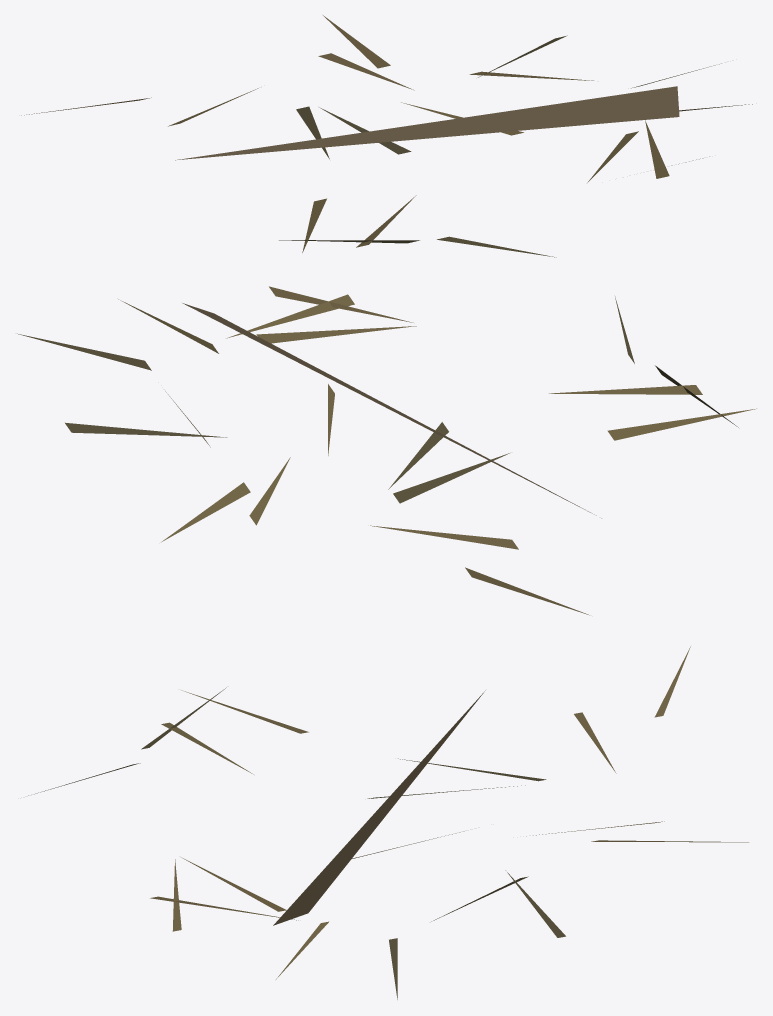
The model's file is taiga-litter.glb.
3 views of the same model, one above another, from view 1: azimuth 30°, elevation 25°; view 2: azimuth 150°, elevation 25°; view 3: azimuth 270°, elevation 25° (orthographic). The views are drawn at different scales.
Parts seen in each view (by area): view 1: Хвойный опад и веточки; view 2: Хвойный опад и веточки; view 3: Хвойный опад и веточки.
Boxes of the visible parts, x1,y1,x2,y2 form: Хвойный опад и веточки: (21,15,752,257); Хвойный опад и веточки: (17,286,756,615); Хвойный опад и веточки: (28,646,748,999).
Size of the model in its own units: 0.946 by 0.04 by 0.8344.
